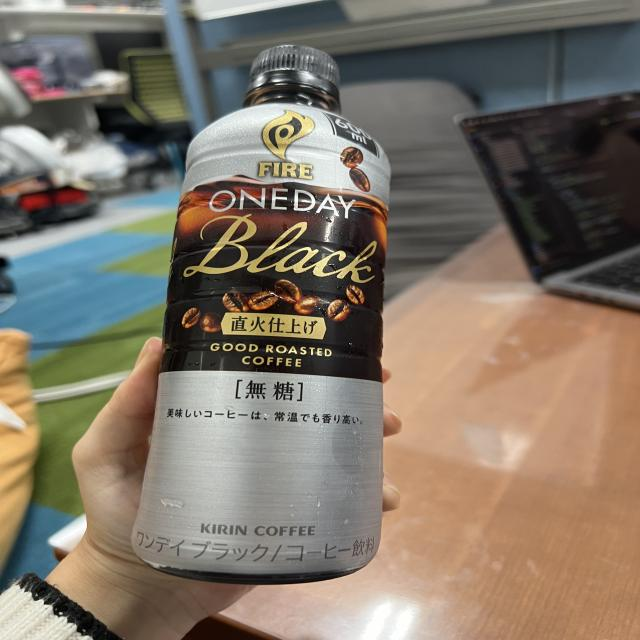coffee-black: (154, 37, 388, 585)
